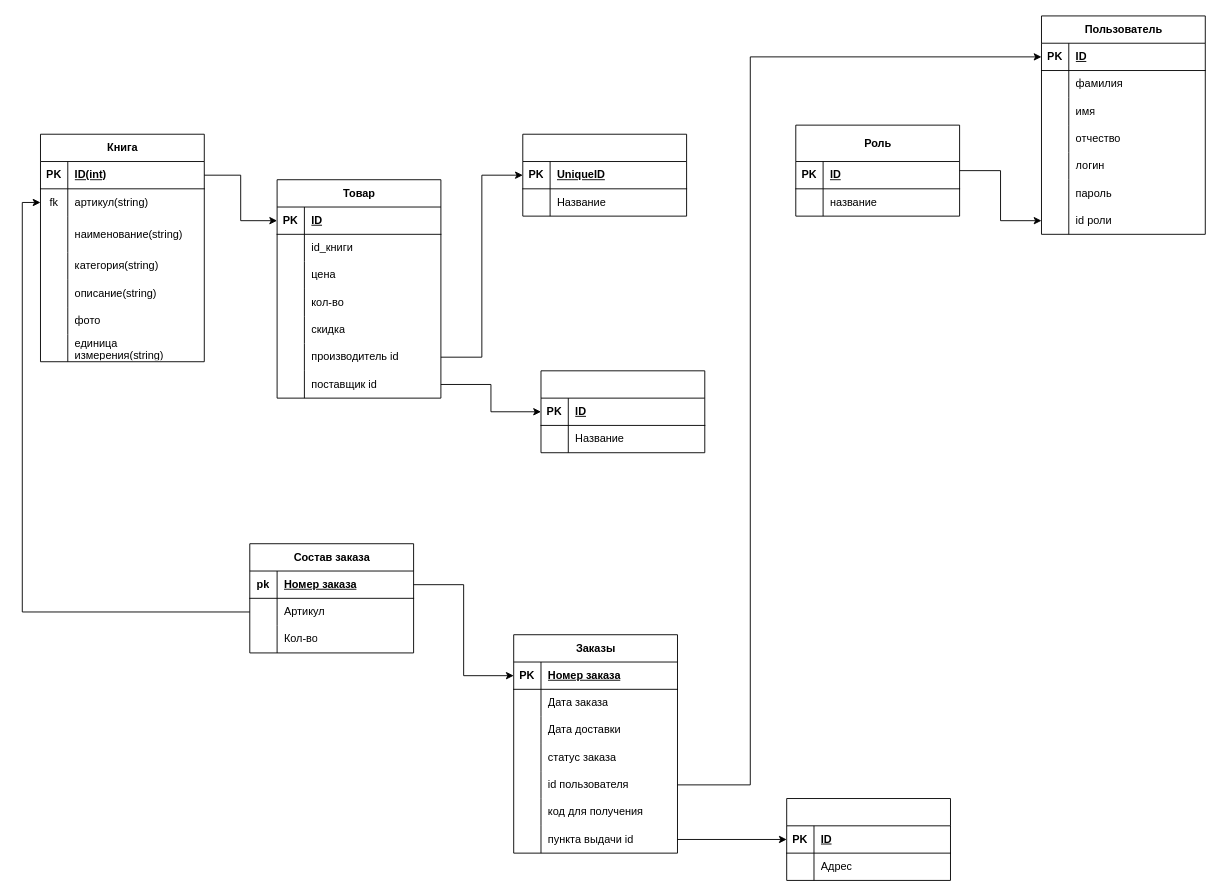
Image size: 1221x896. Some labels were removed from this diagram. The box of each missing label's shape, as (x1, y1, x2, y2) in pixels:
Поставщик: (540, 370, 705, 453)
Производитель: (522, 133, 687, 216)
Пункт выдачи: (786, 798, 950, 880)
